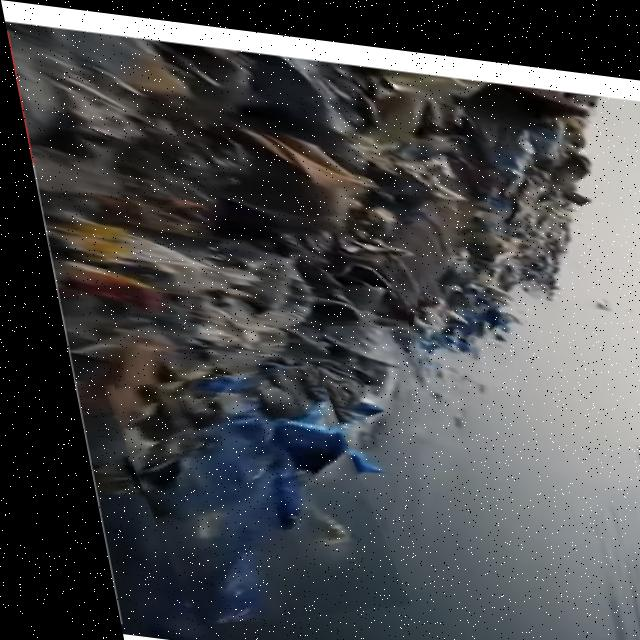plasticcover: (93, 348, 382, 633), (390, 270, 521, 379)
